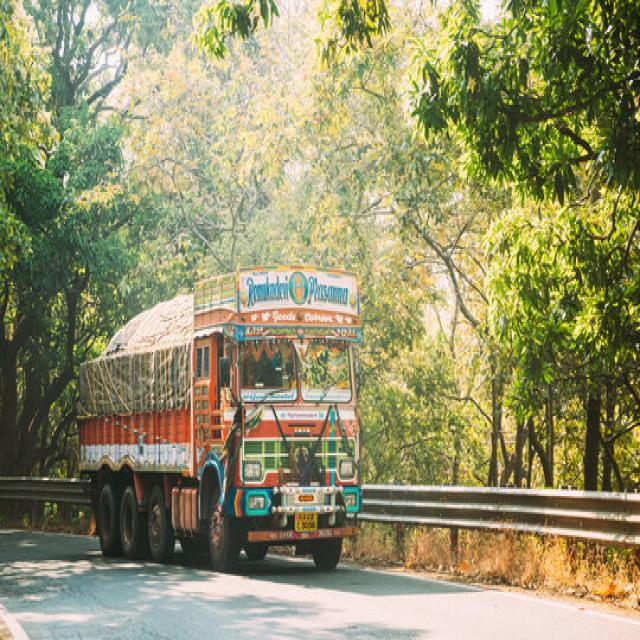truck: (80, 266, 361, 571)
